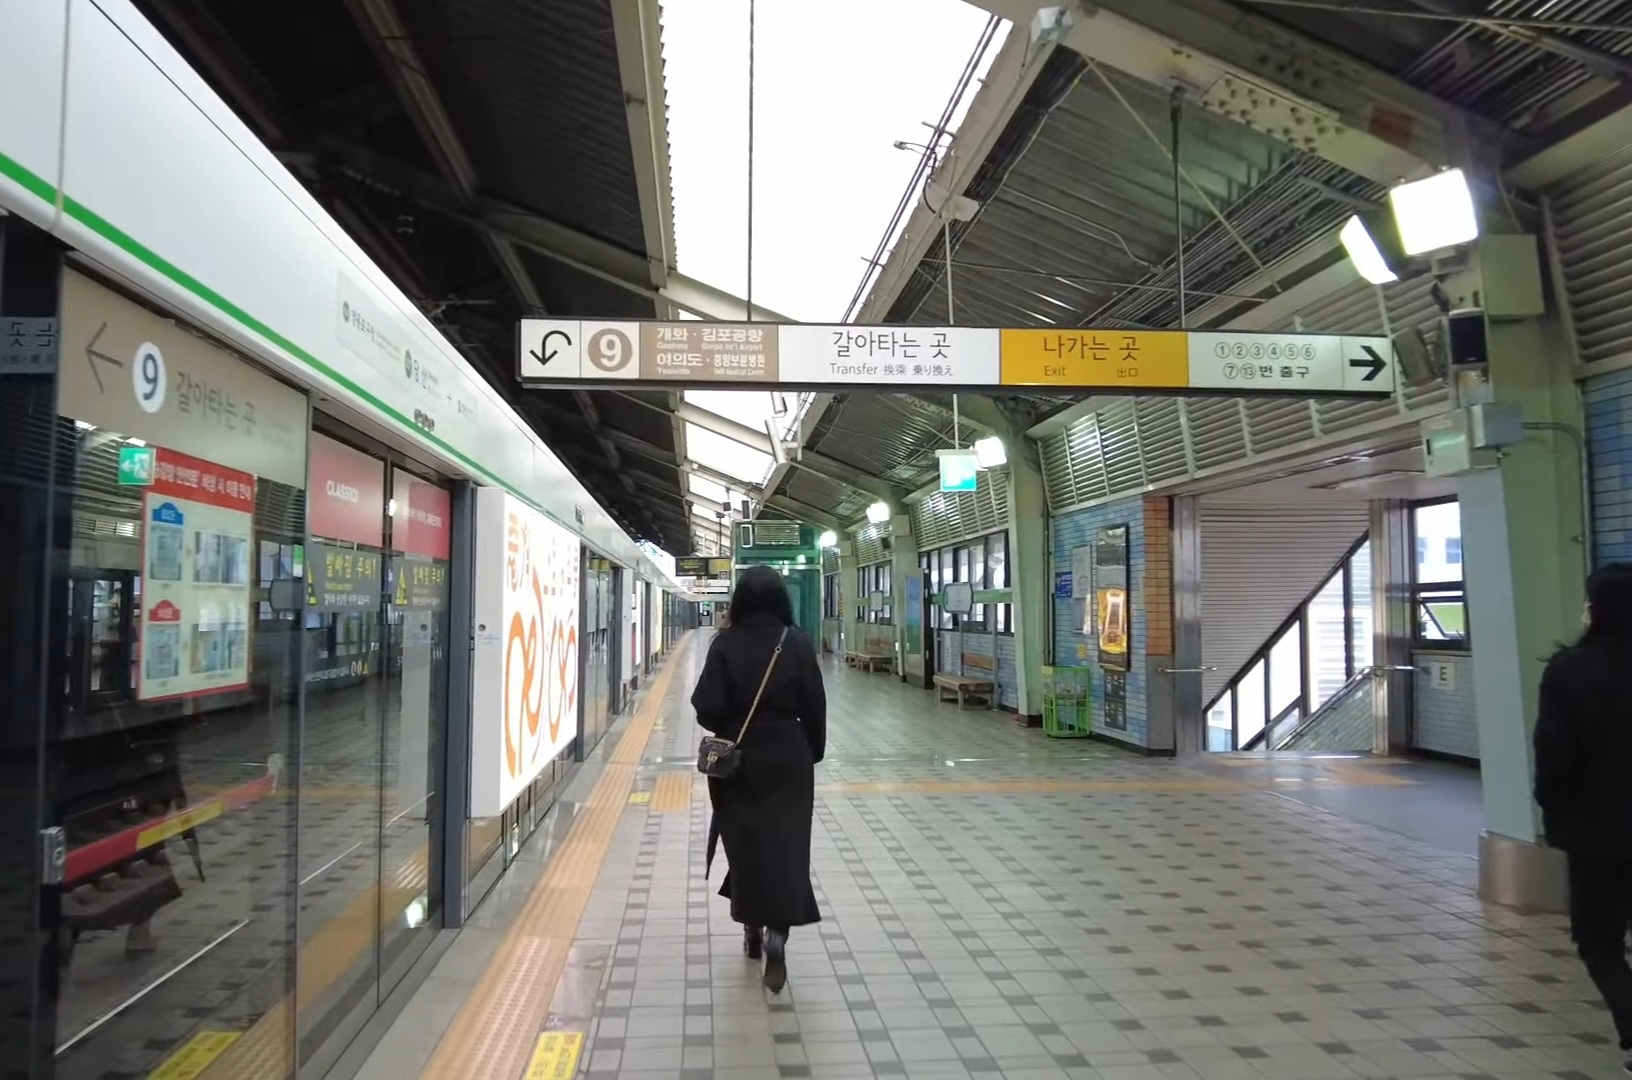signBoard: (505, 303, 1401, 410)
